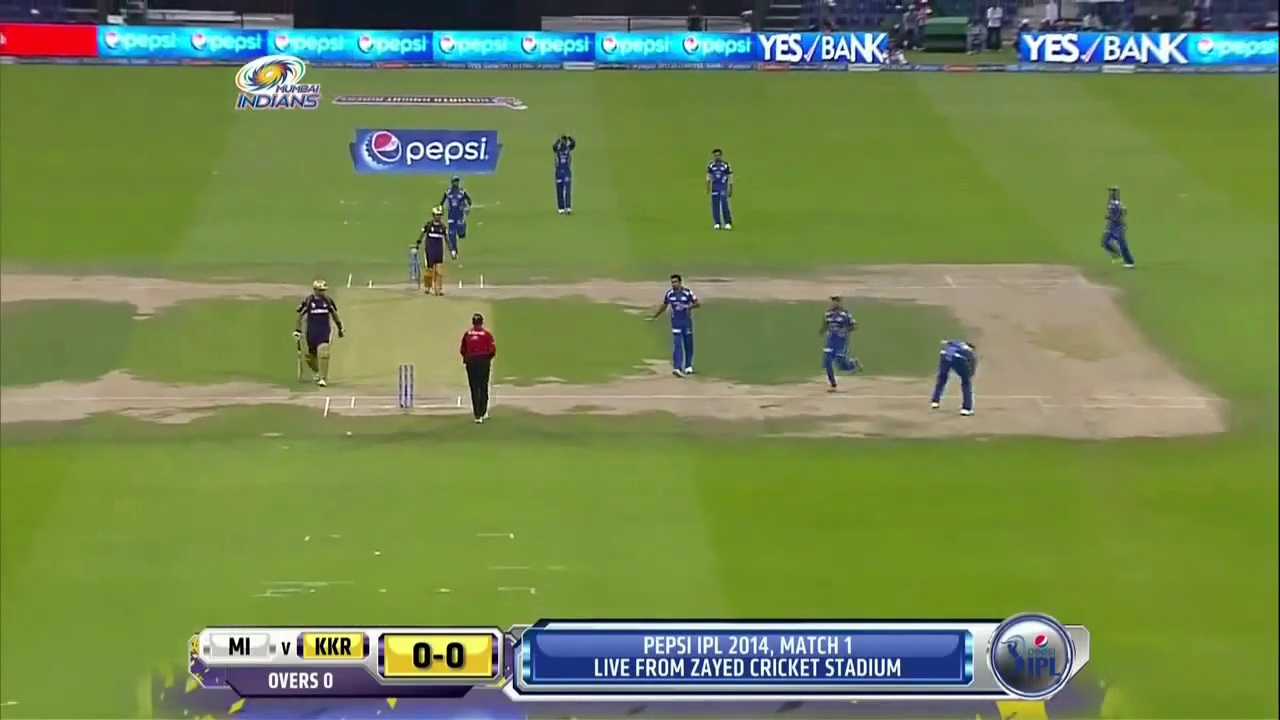bat: (296, 343, 304, 382)
